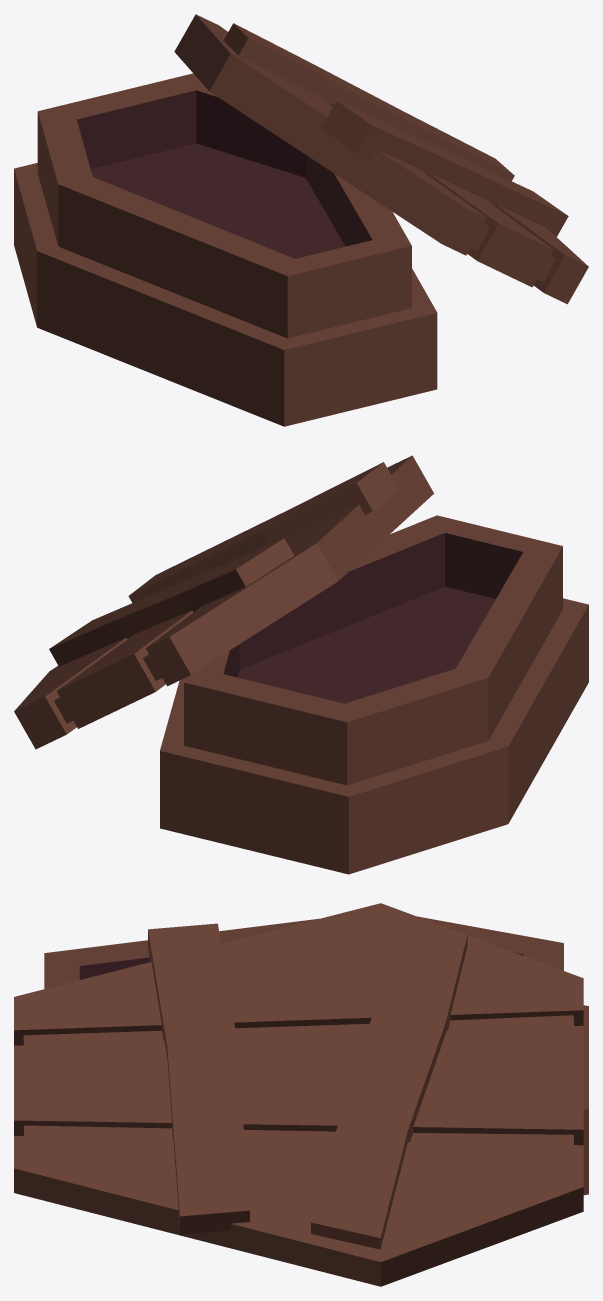
The model's file is coffinOpen.glb.
The picture shows the model from 3 angles, top to bottom: view 1: azimuth 30°, elevation 25°; view 2: azimuth 150°, elevation 25°; view 3: azimuth 270°, elevation 25°; orthographic projection. The views are drawn at different scales.
Parts seen in each view (by area): view 1: coffinOpen; view 2: coffinOpen; view 3: coffinOpen.
Part boxes in pixels (x1,y1,x2,y2): coffinOpen: (14,14,588,426); coffinOpen: (14,455,588,874); coffinOpen: (14,903,588,1286).
Bounding box in the file's own units: 1.28 × 0.6257 × 1.25.
Materials: 1 (1 with a texture image).
